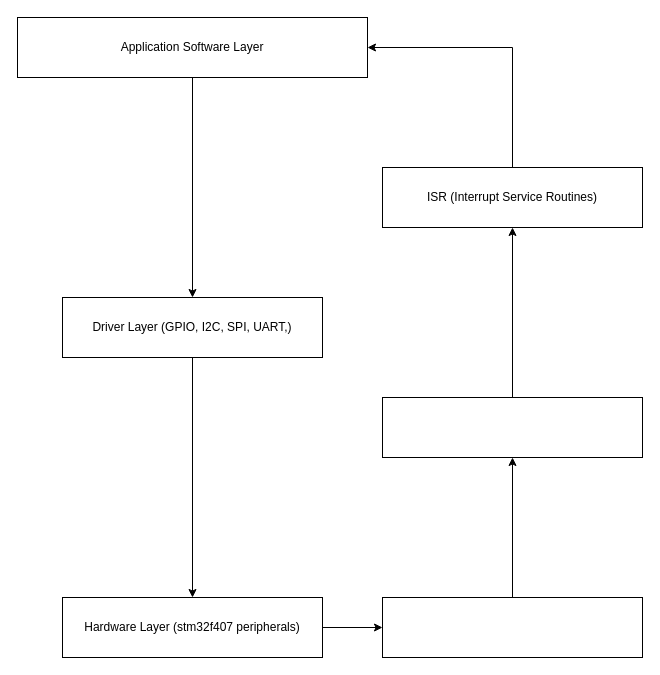
The diagram is 660 pixels wide and 675 high, and some of its shapes have lost their labels. Each missing label, with the centre of its shape:
"Hardware Events (button / UART rx)" belongs at point 512,627.
"Interrupts (NVIC)" belongs at point 512,427.
